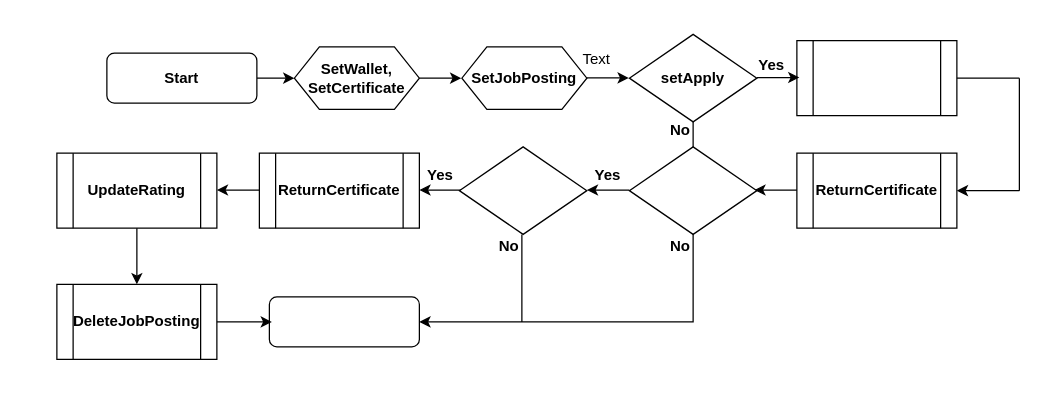
Some shapes in this 1051 by 405 pixel diagram are drawn without their labels. Here are the shapes that lost their labels. From the top down, the box of each, then its label:
(796, 39, 957, 116): VerifyConditions
(458, 146, 587, 234): SetRating
(628, 146, 757, 234): setFreelancer
(268, 296, 419, 347): End
